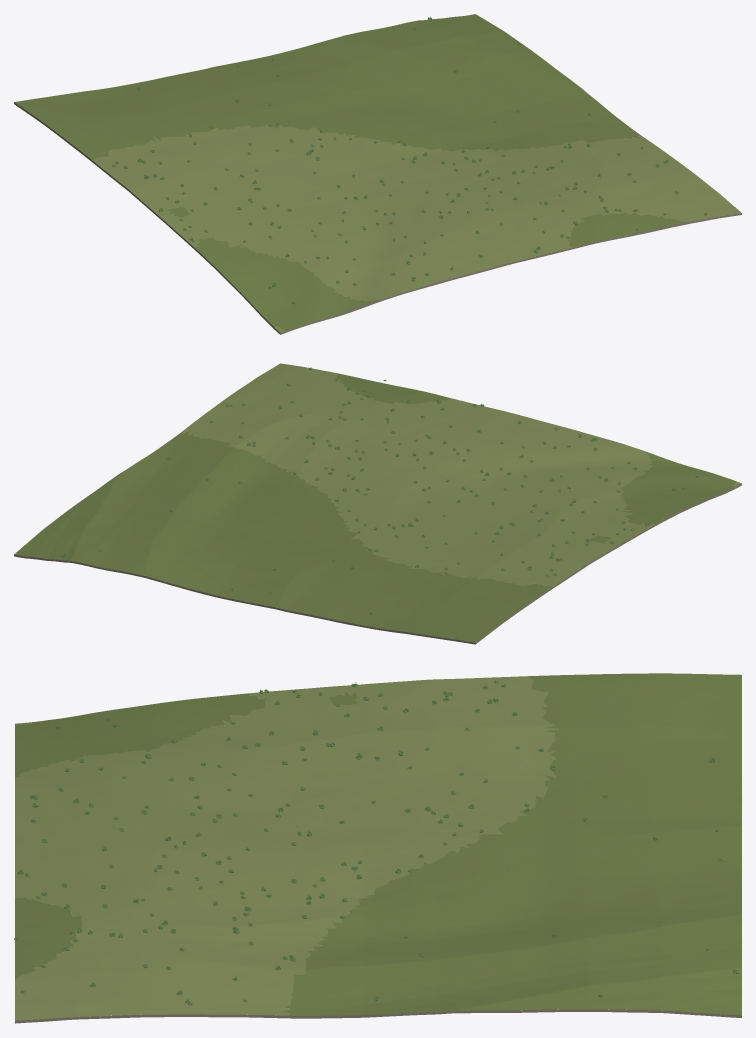
File: parca_+8_-1-yakin.glb
The picture shows the model from 3 angles, top to bottom: view 1: azimuth 30°, elevation 25°; view 2: azimuth 150°, elevation 25°; view 3: azimuth 270°, elevation 25°; orthographic projection. The views are drawn at different scales.
Visible parts, largest first — view 1: parca_+8_-1_arazi, parca_+8_-1_bitkiler; view 2: parca_+8_-1_arazi, parca_+8_-1_bitkiler; view 3: parca_+8_-1_arazi, parca_+8_-1_bitkiler.
Boxes of the visible parts, bbox=[...] form: parca_+8_-1_arazi: bbox=[14, 14, 741, 334]; parca_+8_-1_bitkiler: bbox=[49, 17, 706, 304]; parca_+8_-1_arazi: bbox=[14, 363, 741, 644]; parca_+8_-1_bitkiler: bbox=[51, 367, 698, 615]; parca_+8_-1_arazi: bbox=[15, 673, 741, 1023]; parca_+8_-1_bitkiler: bbox=[14, 676, 741, 1019].
Bounding box in the file's own units: 1001 × 80.39 × 1001.
